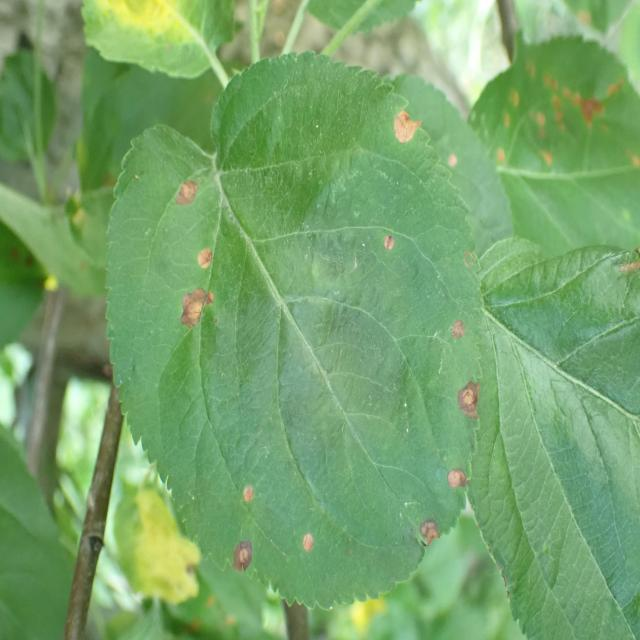Black Rot: (166, 276, 218, 332), (381, 103, 428, 157), (166, 170, 205, 218), (440, 458, 478, 506), (453, 370, 482, 432), (415, 515, 446, 569), (230, 538, 267, 583), (374, 223, 404, 270), (181, 238, 222, 272), (446, 304, 471, 355), (236, 478, 260, 507), (299, 531, 320, 556)
